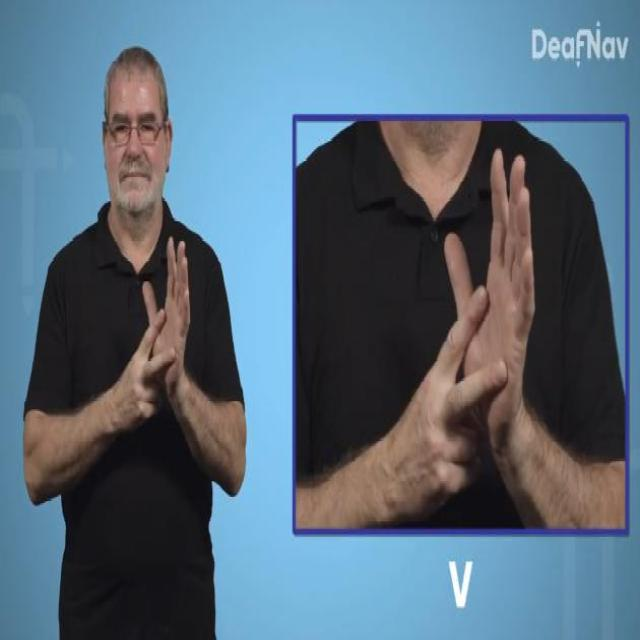V: (420, 145, 539, 522), (110, 236, 194, 432)
